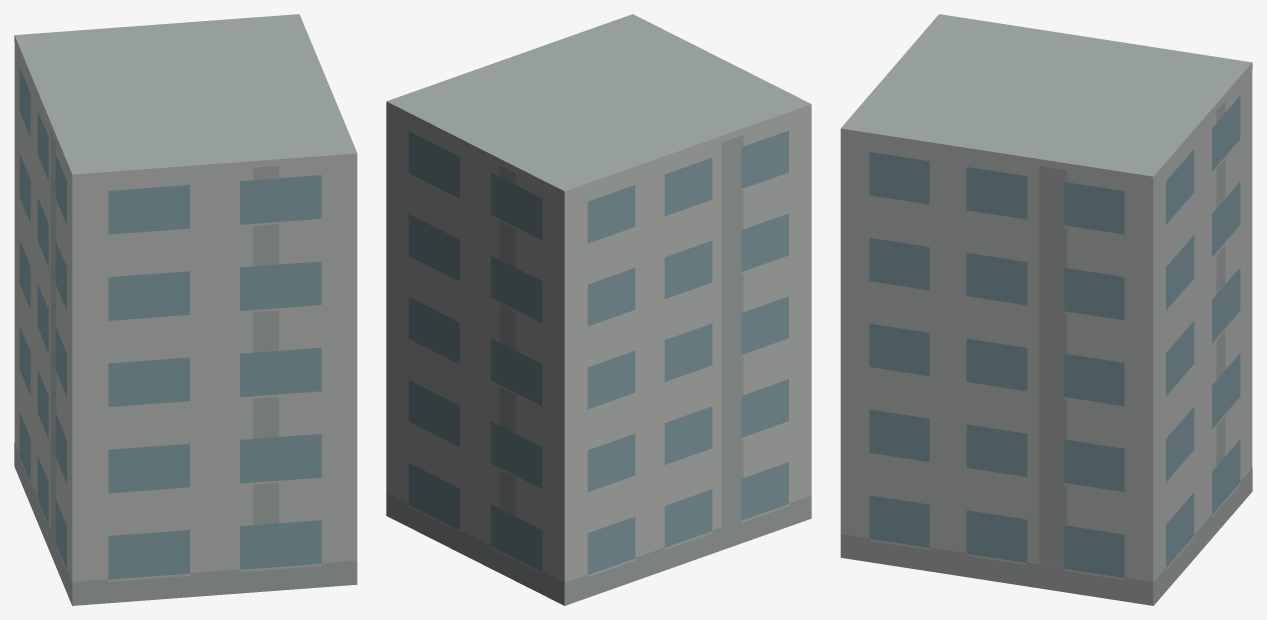
The model's file is residential-c0a7ea0b-88df-4262-a67f-233571b888d6.glb.
3 views of the same model, side by side, from view 1: azimuth 30°, elevation 25°; view 2: azimuth 150°, elevation 25°; view 3: azimuth 270°, elevation 25° (orthographic). The views are drawn at different scales.
Parts seen in each view (by area): view 1: residential-c0a7ea0b-88df-4262-a67f-233571b888d6.tmp; view 2: residential-c0a7ea0b-88df-4262-a67f-233571b888d6.tmp; view 3: residential-c0a7ea0b-88df-4262-a67f-233571b888d6.tmp.
Part boxes in pixels (<box>): residential-c0a7ea0b-88df-4262-a67f-233571b888d6.tmp: <box>14,14,357,605</box>; residential-c0a7ea0b-88df-4262-a67f-233571b888d6.tmp: <box>386,14,811,605</box>; residential-c0a7ea0b-88df-4262-a67f-233571b888d6.tmp: <box>840,14,1252,605</box>.
Bounding box in the file's own units: 12.4 × 15.25 × 13.27.
